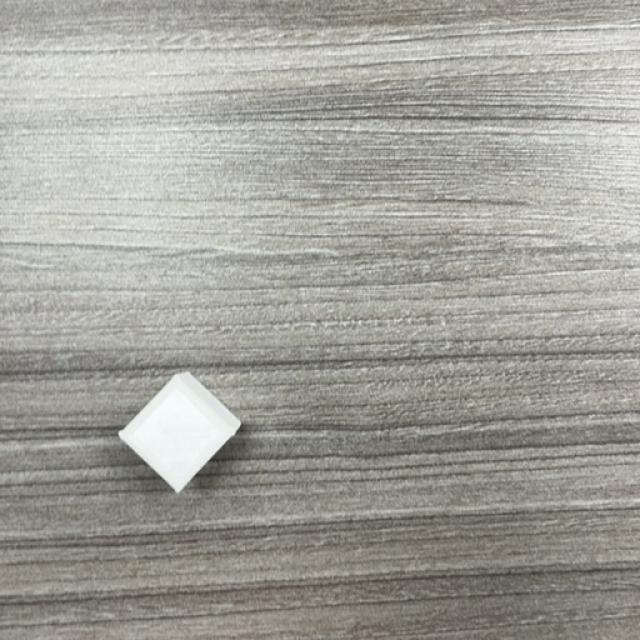Blanco: (116, 371, 242, 494)
